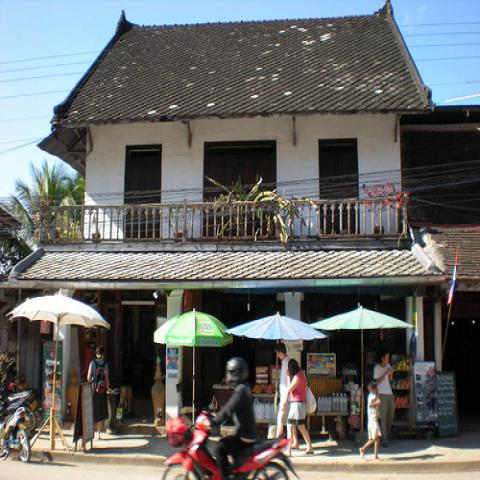motorcycle: (162, 416, 296, 475), (1, 389, 36, 461)
